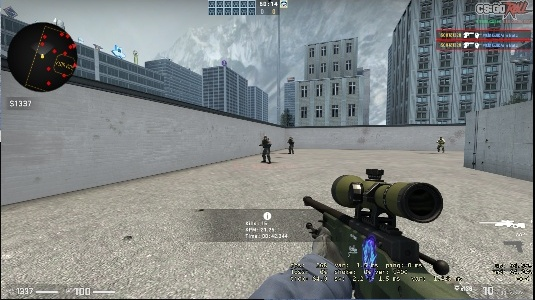body: (261, 135, 272, 164), (287, 136, 295, 154), (436, 137, 445, 153)
head: (264, 135, 268, 141), (289, 136, 293, 140), (439, 136, 443, 140)
